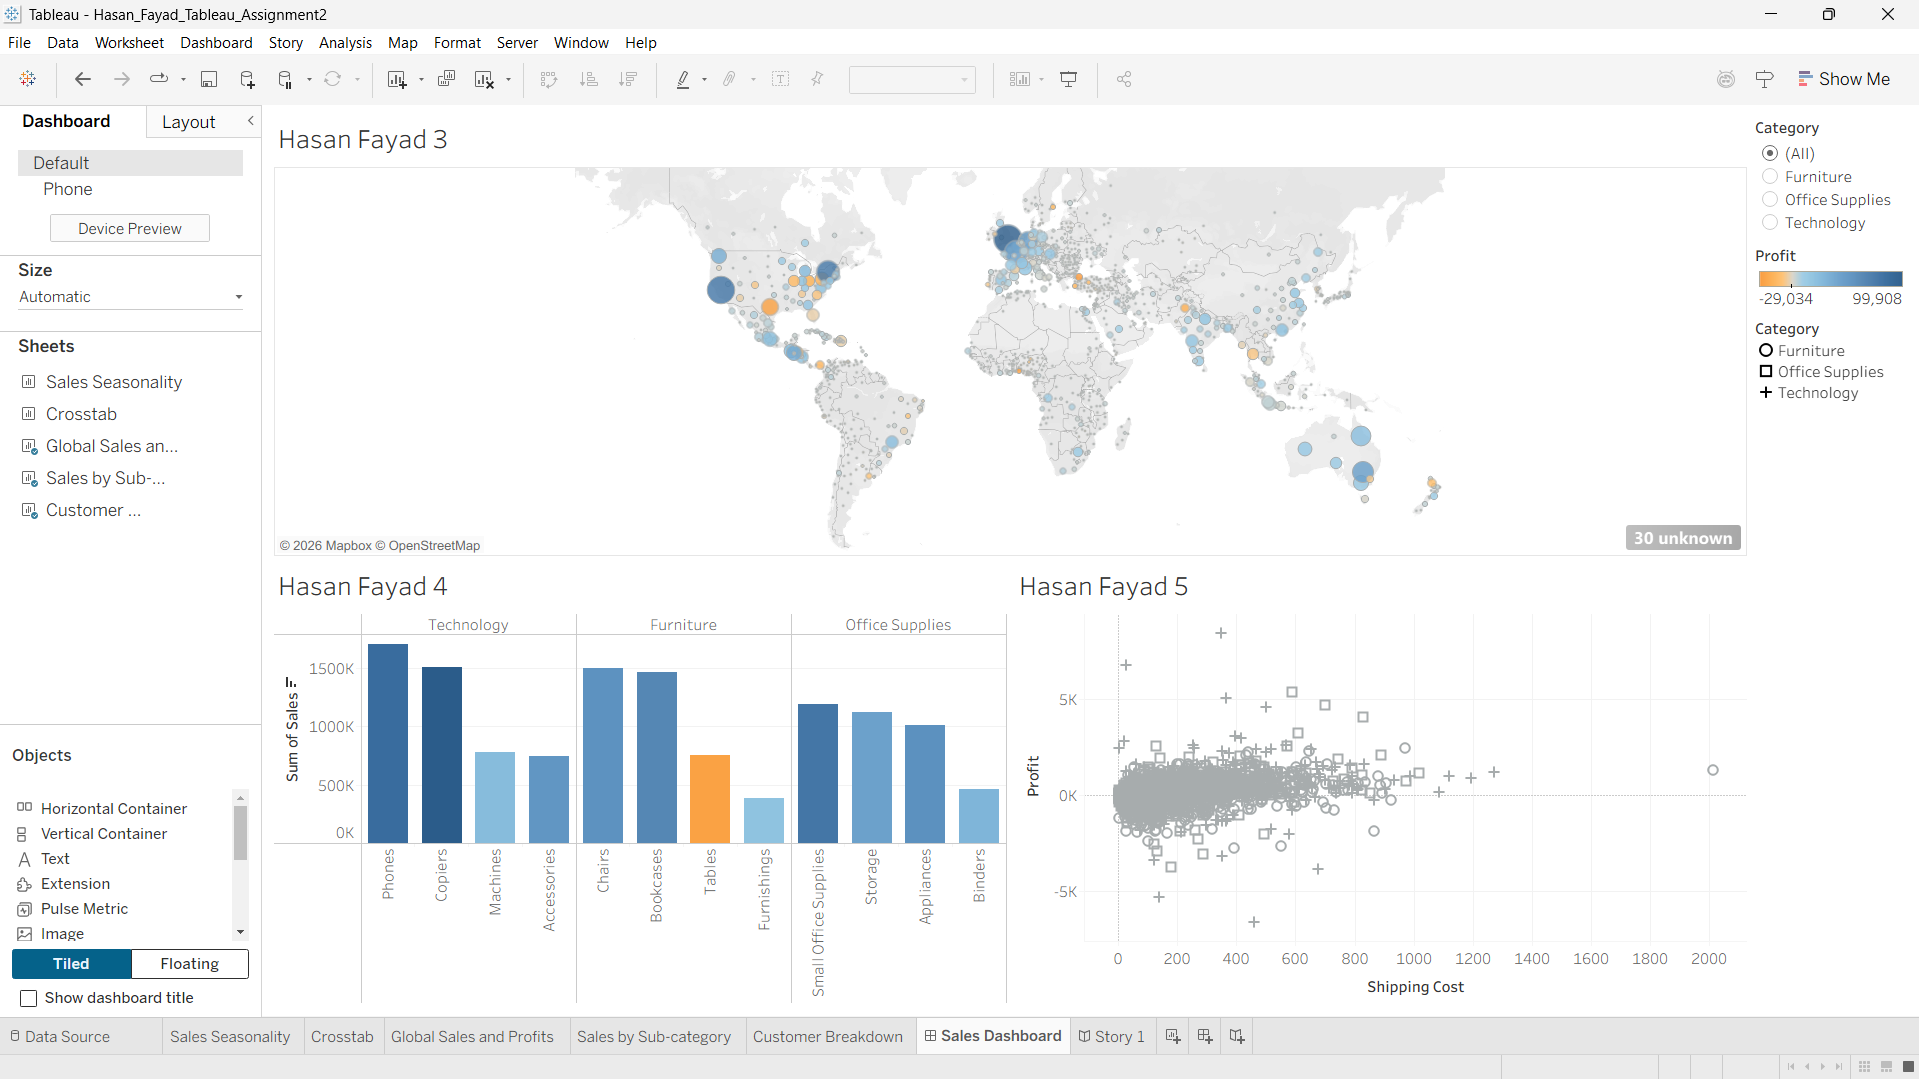

What the dashboard file says about the page in this screenshot:
{"tool":"tableau","page":{"name":"Sales Dashboard","canvas":[1000,1000],"units":"permille","ordinal":0},"visuals":[{"type":"worksheet","title":"Global Sales and Profits","mark":"Automatic","box":[4.8,8.8,893.8,491.2]},{"type":"filter","title":"Global Sales and Profits","param":"[federated.06mn1by1p8pj8h1cg4x0310dc2ta].[none:Category:nk]","box":[898.6,8.8,96.6,140.5]},{"type":"legend","title":"Global Sales and Profits","param":"[federated.06mn1by1p8pj8h1cg4x0310dc2ta].[sum:Profit:qk]","box":[898.6,149.3,96.6,80.1]},{"type":"legend","title":"Customer Breakdown","param":"[federated.06mn1by1p8pj8h1cg4x0310dc2ta].[none:Category:nk]","box":[898.6,229.4,96.6,102.1]},{"type":"worksheet","title":"Sales by Sub-category","mark":"Automatic","rows":["Sales"],"cols":["Category"],"box":[4.8,500,446.9,491.2]},{"type":"worksheet","title":"Customer Breakdown","mark":"Automatic","rows":["Profit"],"cols":["Shipping Cost"],"box":[451.7,500,446.9,491.2]}]}

Visuals, with their boxes on the dashboard's canvas, which has no fixed pixel size, in thousandths of its width and height (x1, y1, x2, y2). These are canvas units, not pixel positions in the 1919x1079 screenshot, which may show the page scaled, cropped or inside an application window:
"Global Sales and Profits" worksheet: (x1=5, y1=9, x2=899, y2=500)
"Global Sales and Profits" filter: (x1=899, y1=9, x2=995, y2=149)
"Global Sales and Profits" legend: (x1=899, y1=149, x2=995, y2=229)
"Customer Breakdown" legend: (x1=899, y1=229, x2=995, y2=332)
"Sales by Sub-category" worksheet: (x1=5, y1=500, x2=452, y2=991)
"Customer Breakdown" worksheet: (x1=452, y1=500, x2=899, y2=991)
